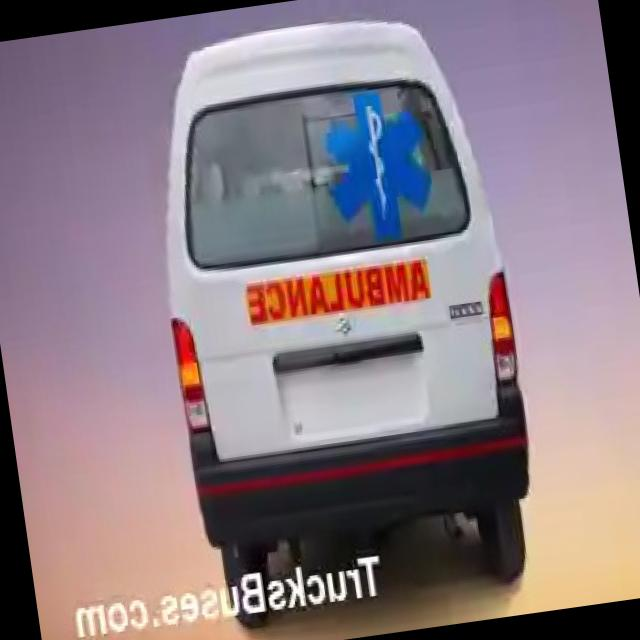ambulance: (99, 0, 571, 628)
